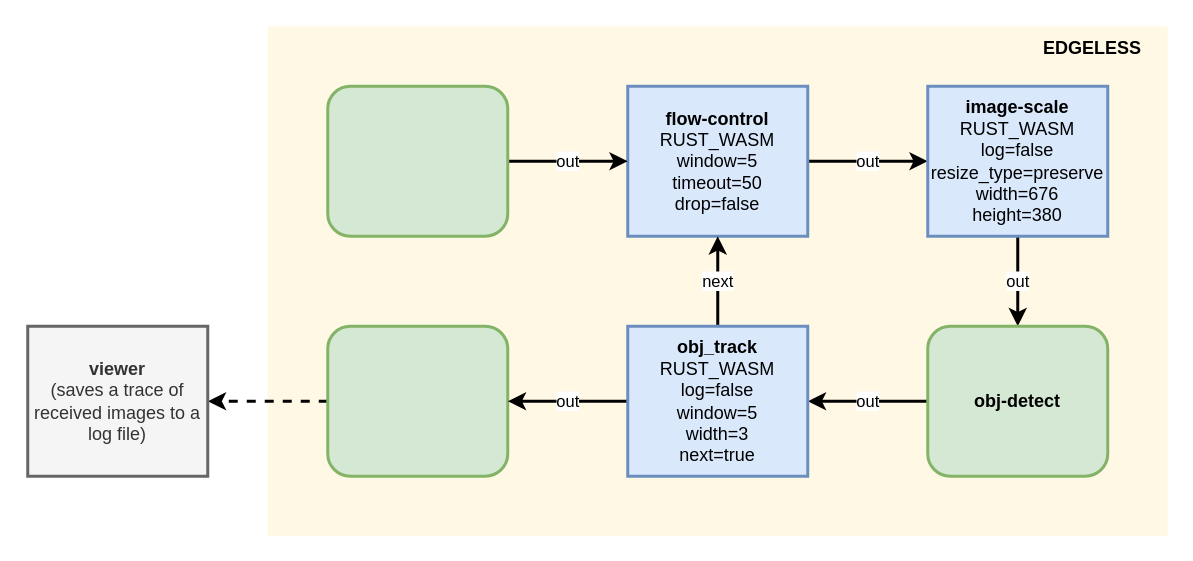
Some shapes in this 1193 by 561 pixel diagram are drawn without their labels. Here are the shapes that lost their labels. From the top down, the centre of each, then its label:
At point (417, 160): "file-pusher period-ms=100 encode-base64=true".
At point (417, 400): "http-poster decode_base64=true url=< viewer >".
